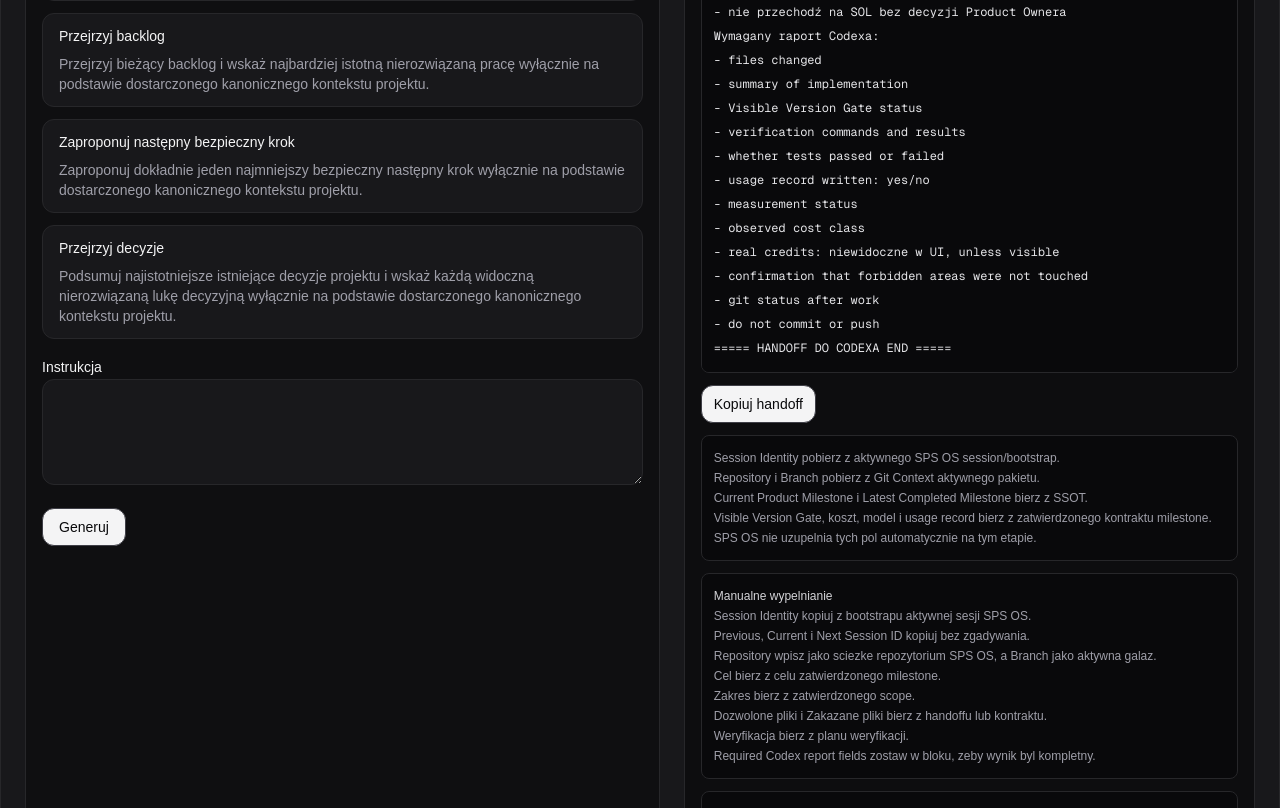
ProjectAiWorkspacePage › reset conversation clears local exchanges and the next generate starts without prior history
(page scrolled)
Type "First instruction" into the text box labelled "Instrukcja" at (342, 432), box left=42, top=379, right=643, bottom=485
Click the button "Generuj" at (84, 527), box left=42, top=508, right=126, bottom=546
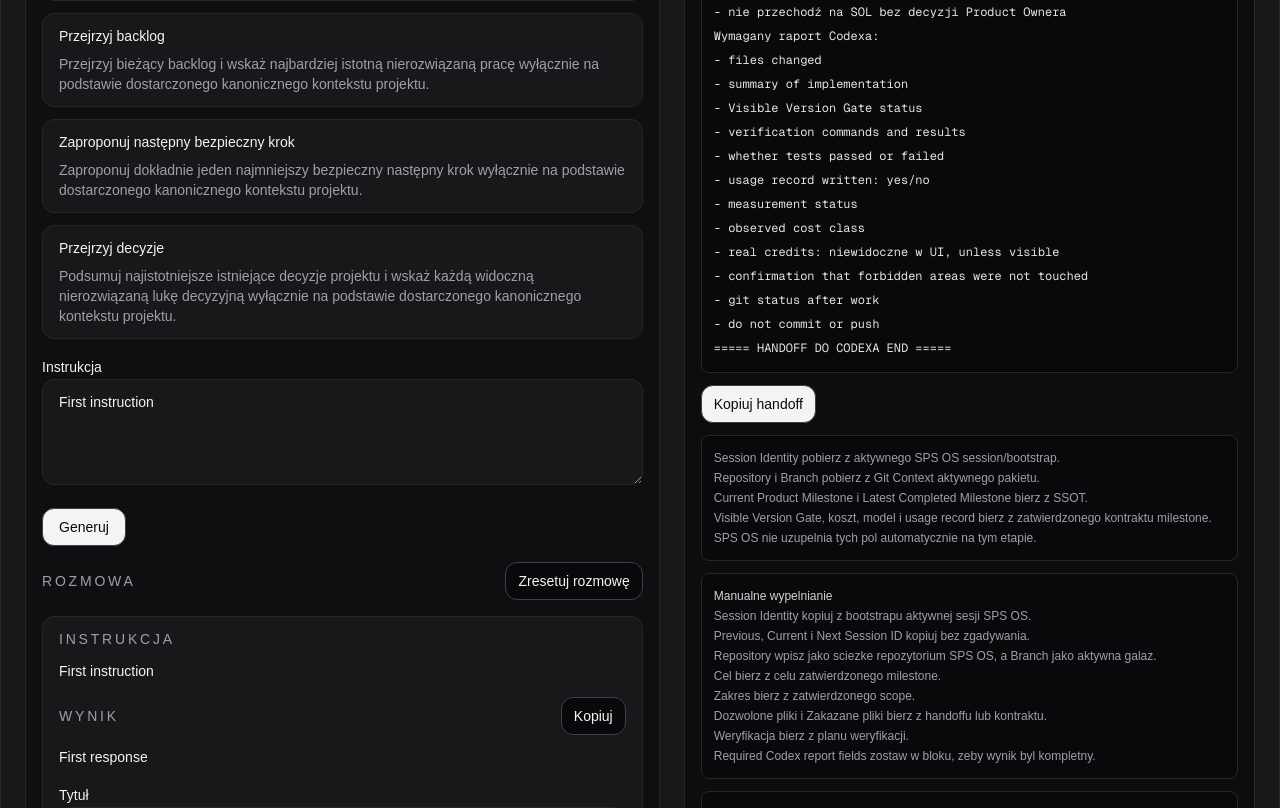
Now the text "First response" is shown, box left=59, top=749, right=148, bottom=765
Replace the text in the text box labelled "Instrukcja" with "Second instruction" at (342, 432), box left=42, top=379, right=643, bottom=485
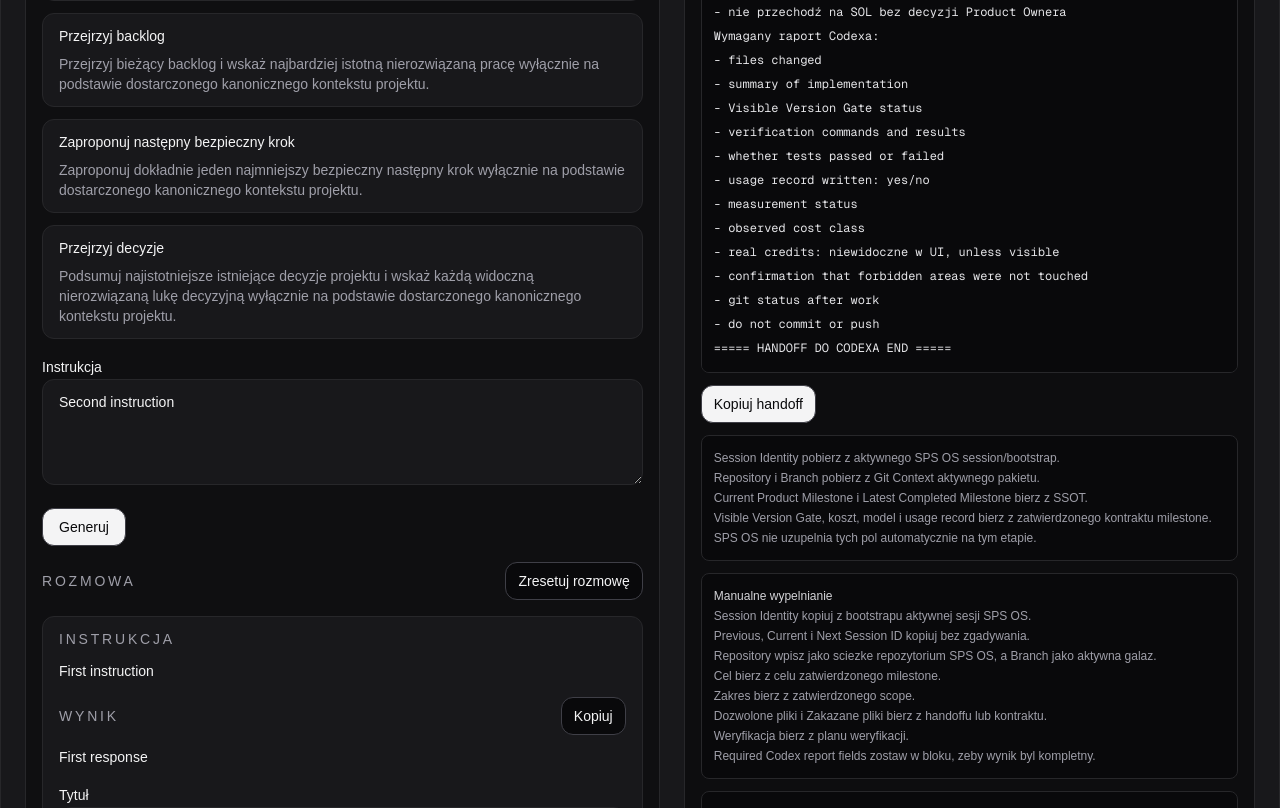
Click the button "Generuj" at (84, 527), box left=42, top=508, right=126, bottom=546
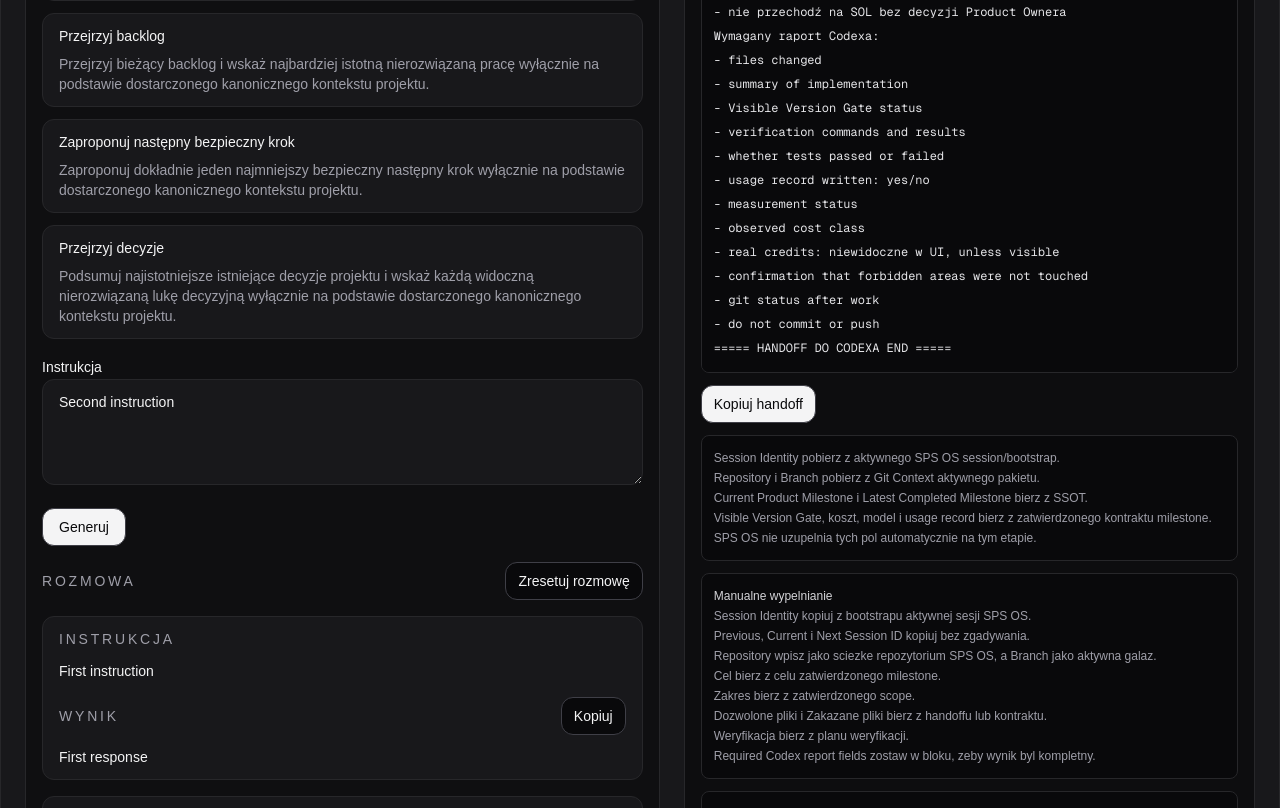
Click the button "Zresetuj rozmowę" at (574, 581), box left=506, top=562, right=643, bottom=600
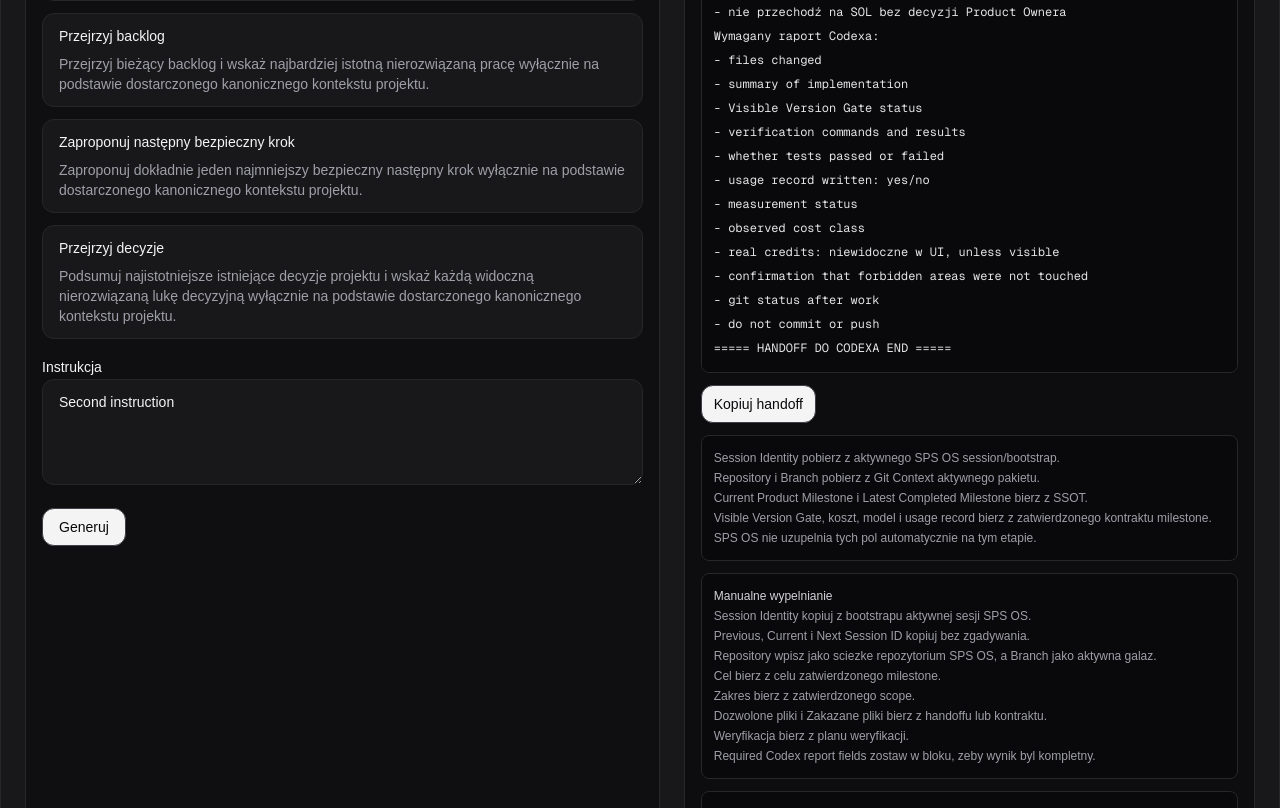
Now the text "First response" is gone
Now the button "Zresetuj rozmowę" is gone
Replace the text in the text box labelled "Instrukcja" with "Third instruction" at (342, 432), box left=42, top=379, right=643, bottom=485
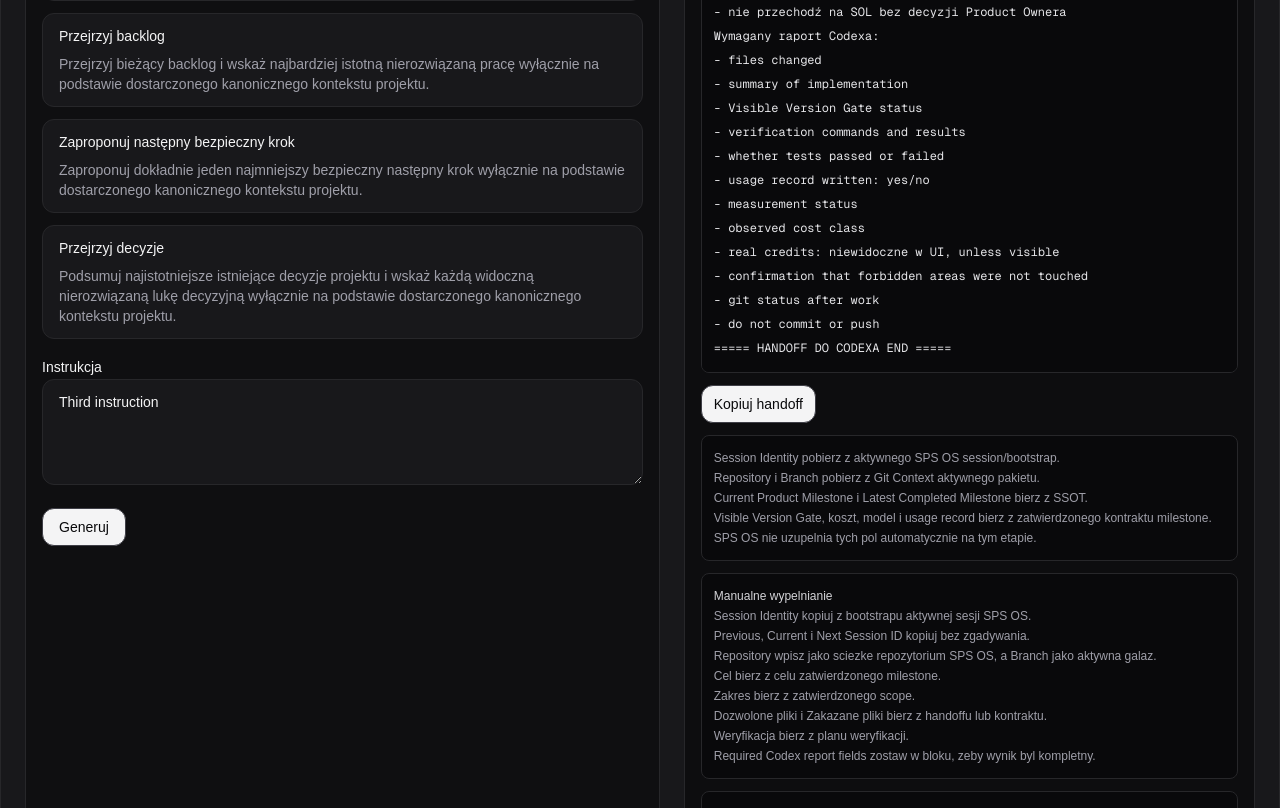
Click the button "Generuj" at (84, 527), box left=42, top=508, right=126, bottom=546
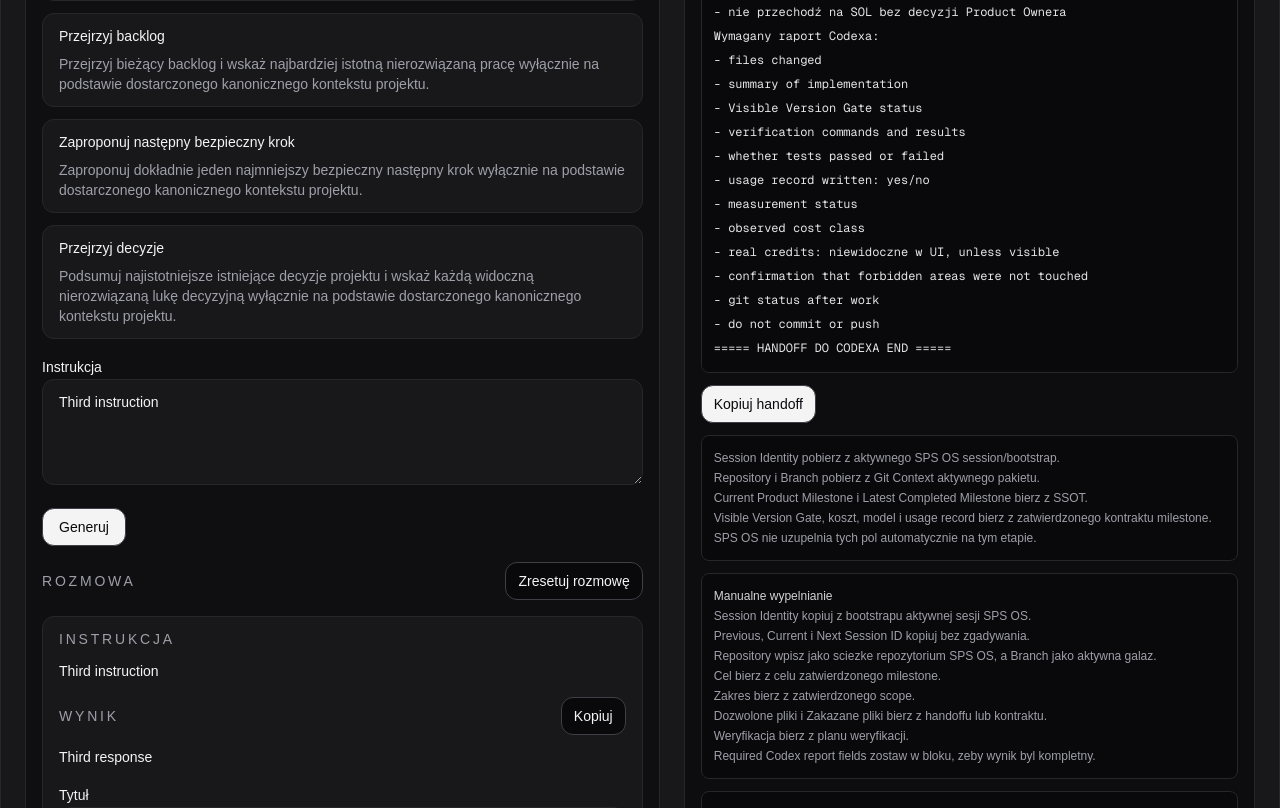
Now the text "Third response" is shown, box left=59, top=749, right=152, bottom=765
